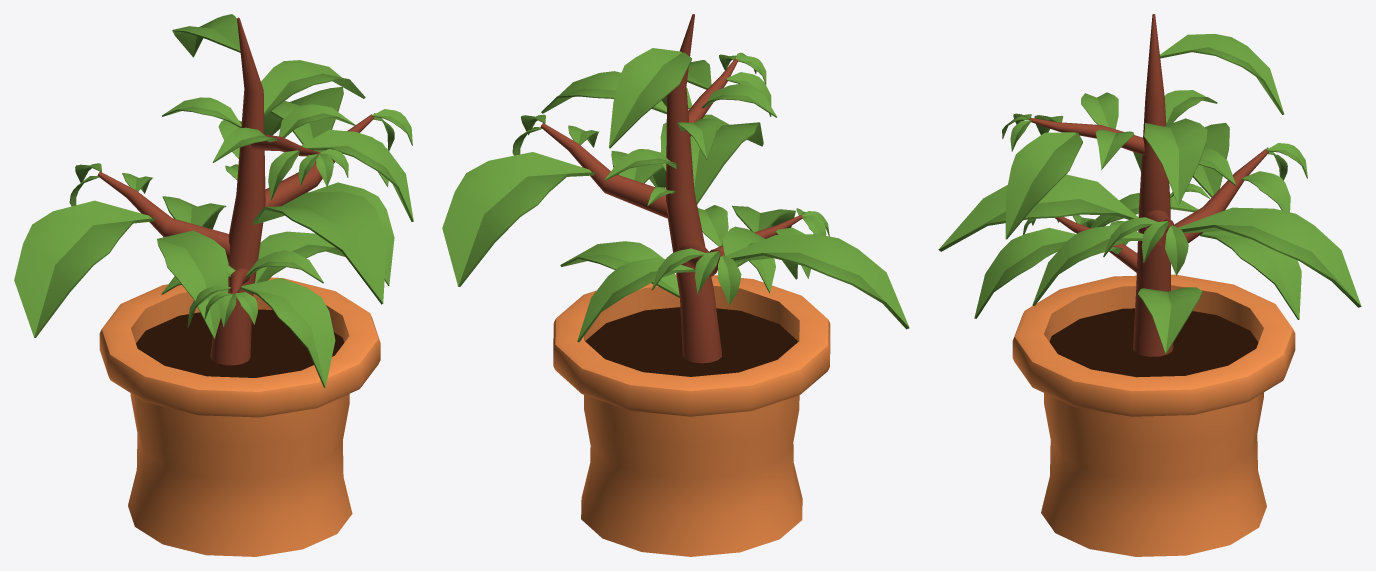
The model's file is plant 1.fbx.
3 views of the same model, side by side, from view 1: azimuth 30°, elevation 25°; view 2: azimuth 150°, elevation 25°; view 3: azimuth 270°, elevation 25° (orthographic).
Visible parts, largest first — view 1: plant 1; view 2: plant 1; view 3: plant 1.
Part boxes in pixels (x1,y1,x2,y2): plant 1: (14, 14, 413, 556); plant 1: (442, 14, 909, 556); plant 1: (938, 14, 1361, 556).
Size of the model in its own units: 2.09 by 2.57 by 1.99.
